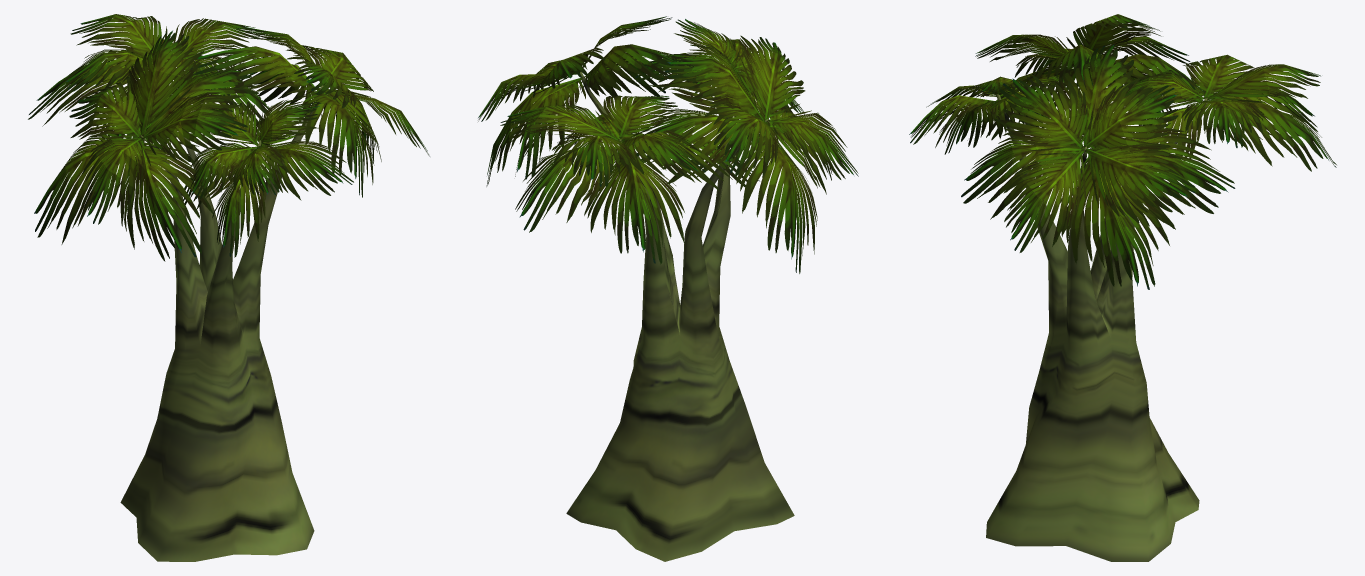
File: strange-tree.glb
3 renders of one model, left to right at view 1: azimuth 30°, elevation 25°; view 2: azimuth 150°, elevation 25°; view 3: azimuth 270°, elevation 25°, orthographic. The views are drawn at different scales.
Bounding box in the file's own units: 1.78 × 2.34 × 1.98.
1 material, 1 textured.
